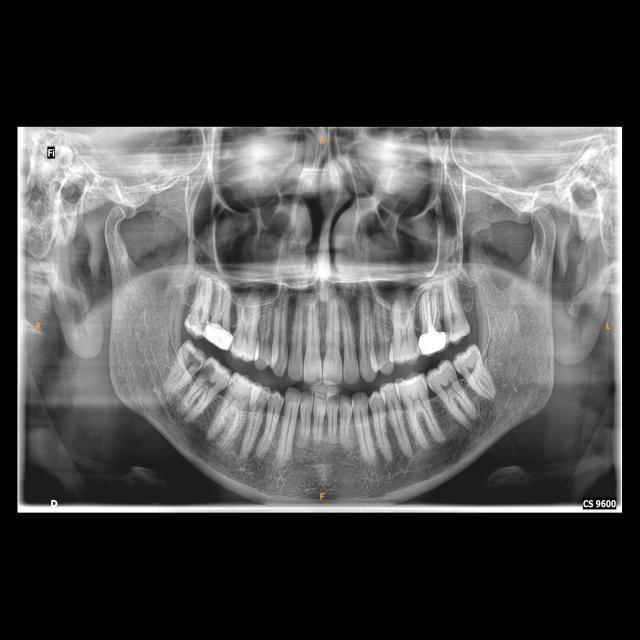dentin-curugu: (186, 351, 203, 371), (204, 362, 218, 382), (443, 315, 452, 335)
kanal-tedavisi: (415, 294, 439, 329)
kaplama: (204, 319, 233, 351), (415, 330, 446, 353)
